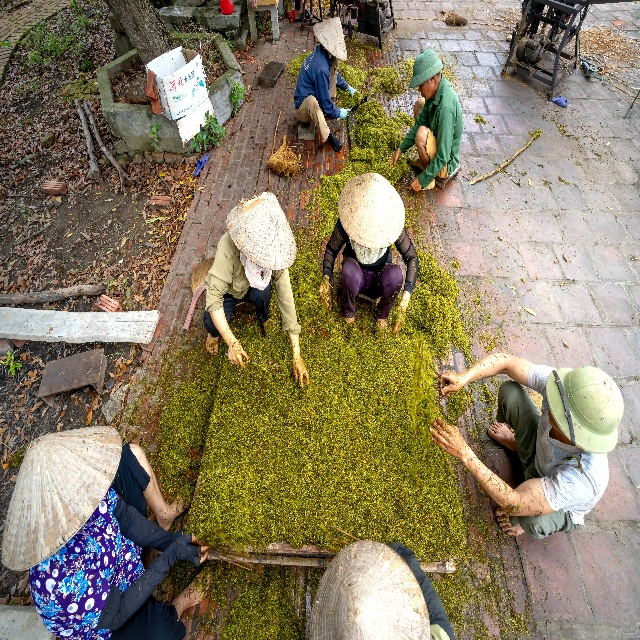Guantes: (94, 535, 201, 632), (114, 496, 183, 551), (339, 107, 351, 121), (347, 86, 359, 98)
Sin_guantes: (429, 417, 465, 457), (228, 338, 249, 369), (441, 370, 463, 398), (292, 356, 309, 390), (392, 305, 405, 335), (318, 280, 330, 303), (408, 176, 421, 193), (388, 151, 400, 168), (248, 0, 257, 11)
